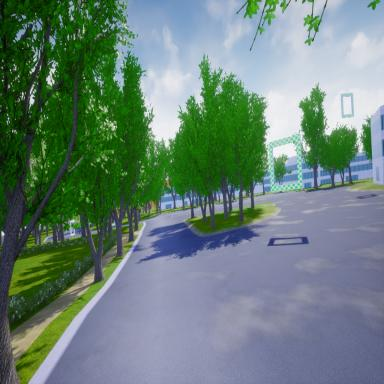gate: (268, 133, 303, 193), (340, 91, 355, 118)
